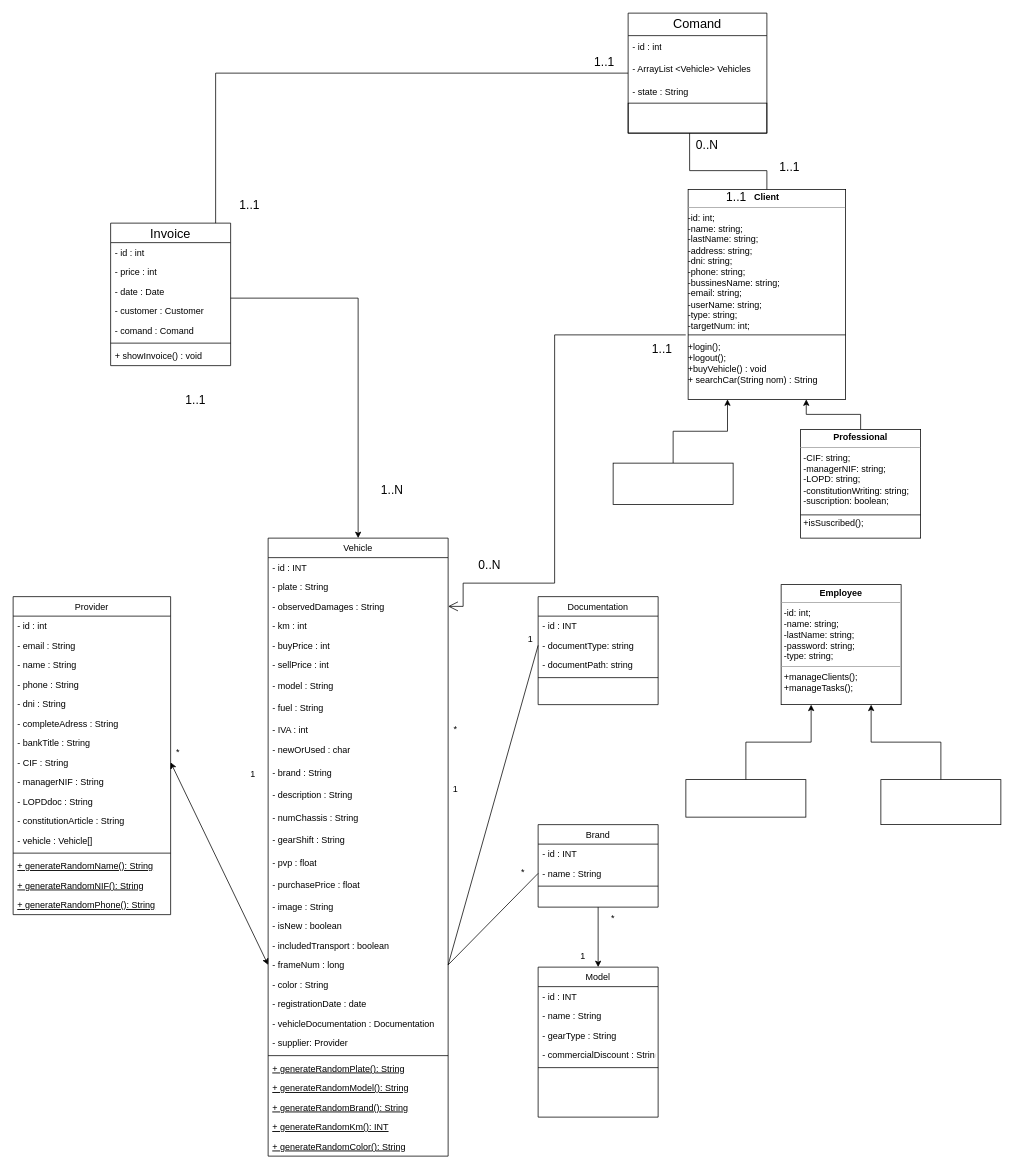
Image size: 1014x1172. Some labels were removed from this diagram. Each missing label, with the centre of its shape:
+ addVehicle() void + deleteVehicle() : void: point (697, 117)
Administrador: point (745, 798)
Administrative: point (940, 802)
Private: point (672, 483)
